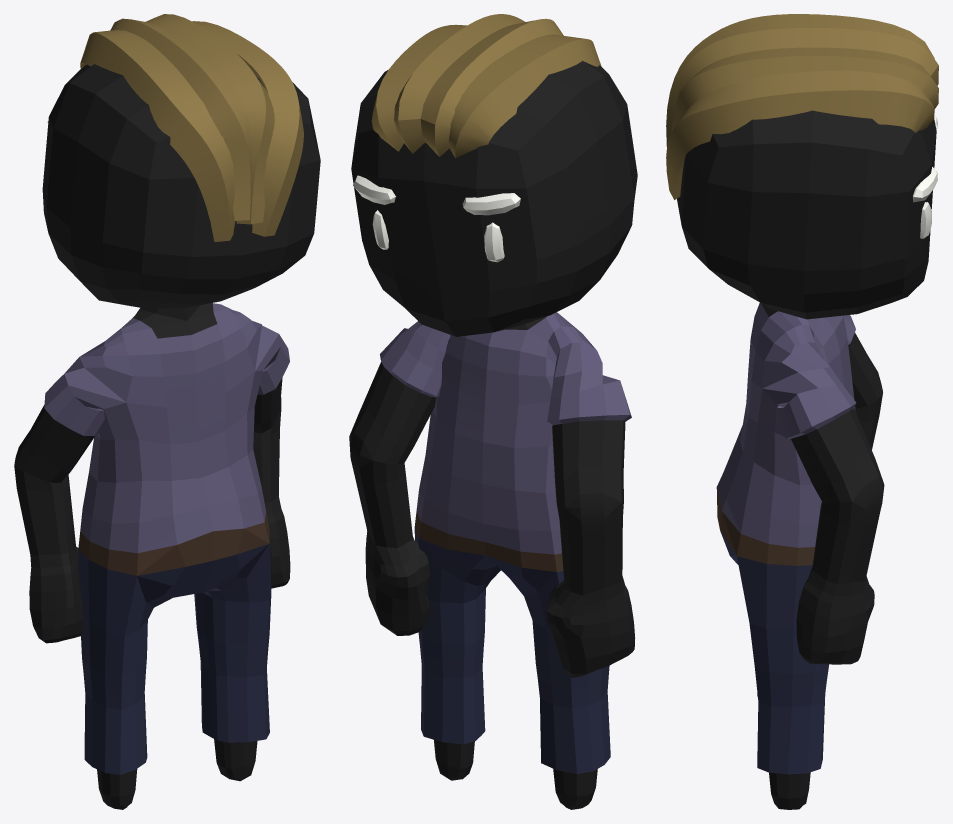
Rendered from Moun_Casual2_Male_Stand.fbx.
The picture shows the model from 3 angles, left to right: view 1: azimuth 30°, elevation 25°; view 2: azimuth 150°, elevation 25°; view 3: azimuth 270°, elevation 25°; orthographic projection. The views are drawn at different scales.
Visible parts, largest first — view 1: Moun_Casual2_Male_Stand; view 2: Moun_Casual2_Male_Stand; view 3: Moun_Casual2_Male_Stand.
Part boxes in pixels (bbox=[...]): Moun_Casual2_Male_Stand: bbox=[14, 14, 320, 809]; Moun_Casual2_Male_Stand: bbox=[349, 14, 637, 809]; Moun_Casual2_Male_Stand: bbox=[666, 14, 938, 809].
Bounding box in the file's own units: 0.6249 × 1.67 × 0.546.
